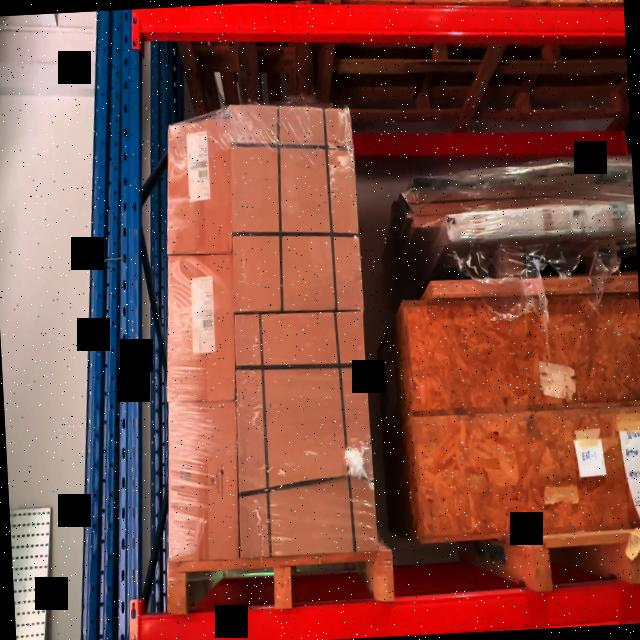box: (234, 314, 374, 558), (230, 108, 360, 315), (168, 402, 240, 560), (168, 254, 234, 401), (170, 121, 232, 254)
